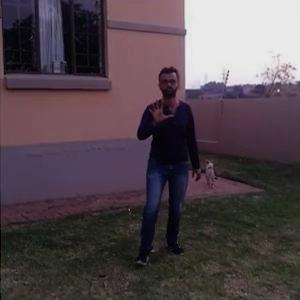follow_hand: (142, 94, 176, 124)
